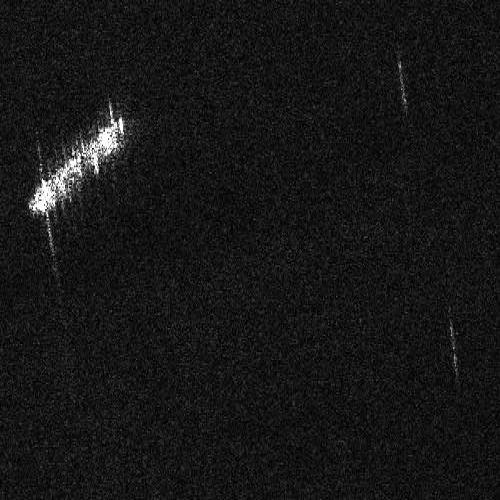ship: (27, 119, 126, 213)
